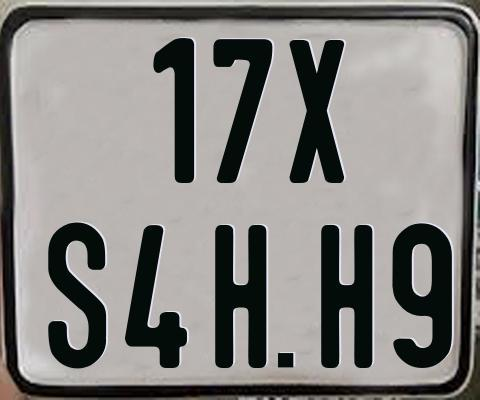1: (153, 38, 196, 187)
4: (125, 222, 189, 366)
7: (213, 38, 272, 183)
9: (390, 220, 452, 371)
H: (319, 225, 375, 372), (213, 222, 265, 366)
S: (47, 222, 106, 369)
X: (289, 39, 347, 184)
